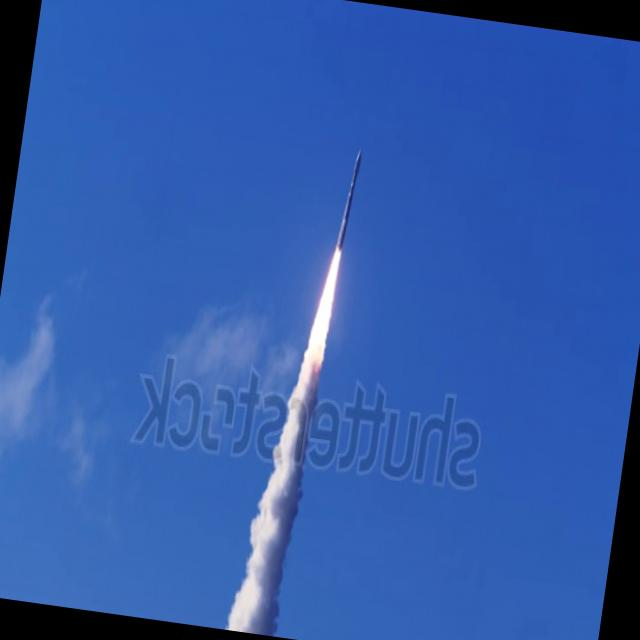rocket: (269, 141, 369, 525)
